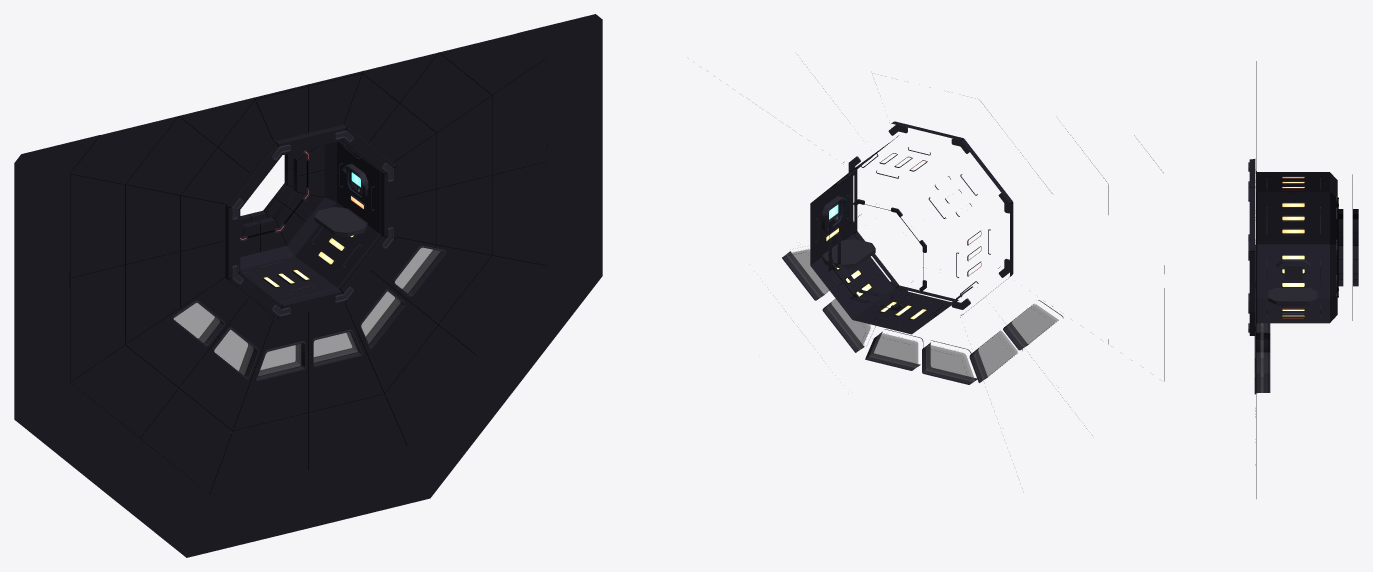
File: 1st_stage.glb
The picture shows the model from 3 angles, left to right: view 1: azimuth 30°, elevation 25°; view 2: azimuth 150°, elevation 25°; view 3: azimuth 270°, elevation 25°; orthographic projection. The views are drawn at different scales.
Parts seen in each view (by area): view 1: 1st_stage.003, windows; view 2: 1st_stage.003, windows; view 3: 1st_stage.003, windows.
Part boxes in pixels (x1=…): 1st_stage.003: x1=14, y1=14, x2=602, y2=557; windows: x1=174, y1=247, x2=440, y2=376; 1st_stage.003: x1=782, y1=61, x2=1164, y2=435; windows: x1=786, y1=249, x2=1058, y2=381; 1st_stage.003: x1=1248, y1=61, x2=1358, y2=498; windows: x1=1260, y1=323, x2=1263, y2=392.
Bounding box in the file's own units: 27.98 × 20.19 × 5.38.
Materials: 2 (1 with a texture image).
